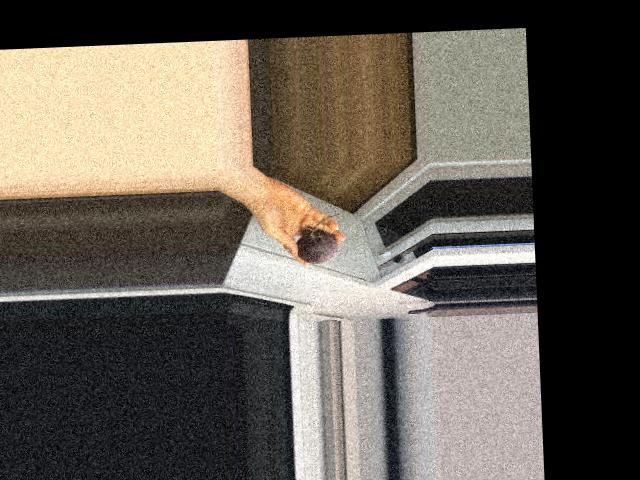beet: (296, 213, 343, 264)
